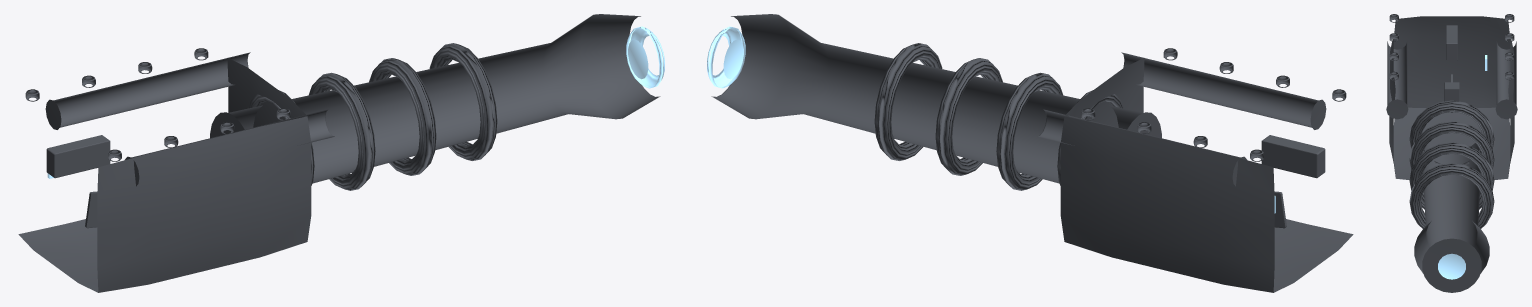
The model's file is weapon_missile_pod.glb.
3 renders of one model, left to right at view 1: azimuth 30°, elevation 25°; view 2: azimuth 150°, elevation 25°; view 3: azimuth 270°, elevation 25°, orthographic. The views are drawn at different scales.
Visible parts, largest first — view 1: weapon_heavy_cannon_Material_Hull_Merged, weapon_heavy_cannon_Material_Mechanical_Merged, DET_missile_tube_row, Heavy_Muzzle_Glow; view 2: weapon_heavy_cannon_Material_Hull_Merged, weapon_heavy_cannon_Material_Mechanical_Merged, DET_missile_tube_row, Heavy_Muzzle_Glow; view 3: weapon_heavy_cannon_Material_Hull_Merged, weapon_heavy_cannon_Material_Mechanical_Merged, Heavy_Muzzle_Glow, DET_missile_tube_row, DET_warhead_cap.
Part boxes in pixels (x1=…): weapon_heavy_cannon_Material_Hull_Merged: x1=18, y1=43, x2=497, y2=292; weapon_heavy_cannon_Material_Mechanical_Merged: x1=25, y1=14, x2=660, y2=186; DET_missile_tube_row: x1=46, y1=135, x2=110, y2=178; Heavy_Muzzle_Glow: x1=626, y1=26, x2=664, y2=88; weapon_heavy_cannon_Material_Hull_Merged: x1=874, y1=43, x2=1353, y2=292; weapon_heavy_cannon_Material_Mechanical_Merged: x1=711, y1=14, x2=1346, y2=186; DET_missile_tube_row: x1=1261, y1=135, x2=1325, y2=178; Heavy_Muzzle_Glow: x1=707, y1=26, x2=745, y2=88; weapon_heavy_cannon_Material_Hull_Merged: x1=1389, y1=16, x2=1514, y2=228; weapon_heavy_cannon_Material_Mechanical_Merged: x1=1386, y1=14, x2=1517, y2=292; Heavy_Muzzle_Glow: x1=1438, y1=253, x2=1465, y2=279; DET_missile_tube_row: x1=1446, y1=25, x2=1457, y2=60; DET_warhead_cap: x1=1444, y1=82, x2=1459, y2=101.
Size of the model in its own units: 6.43 by 1.5 by 1.73.
